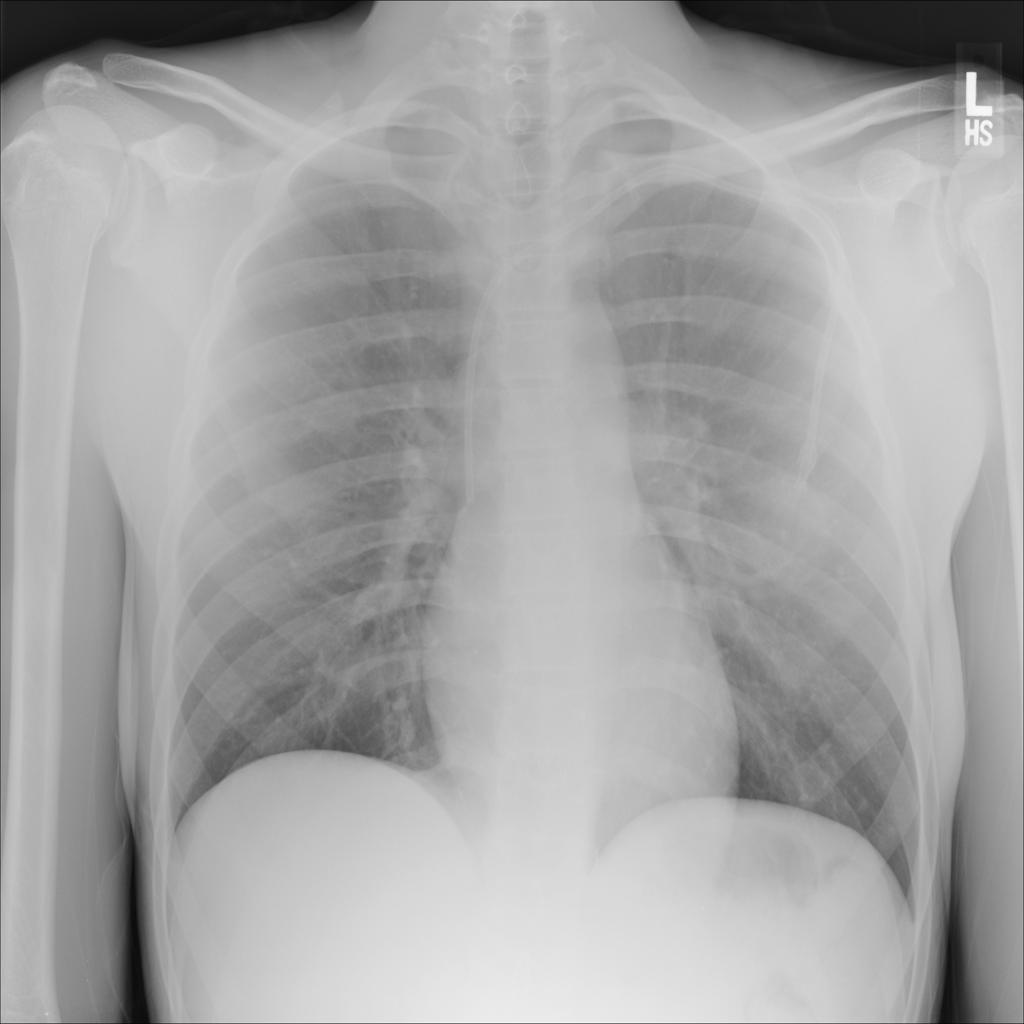nodule: (847, 788, 882, 827)
